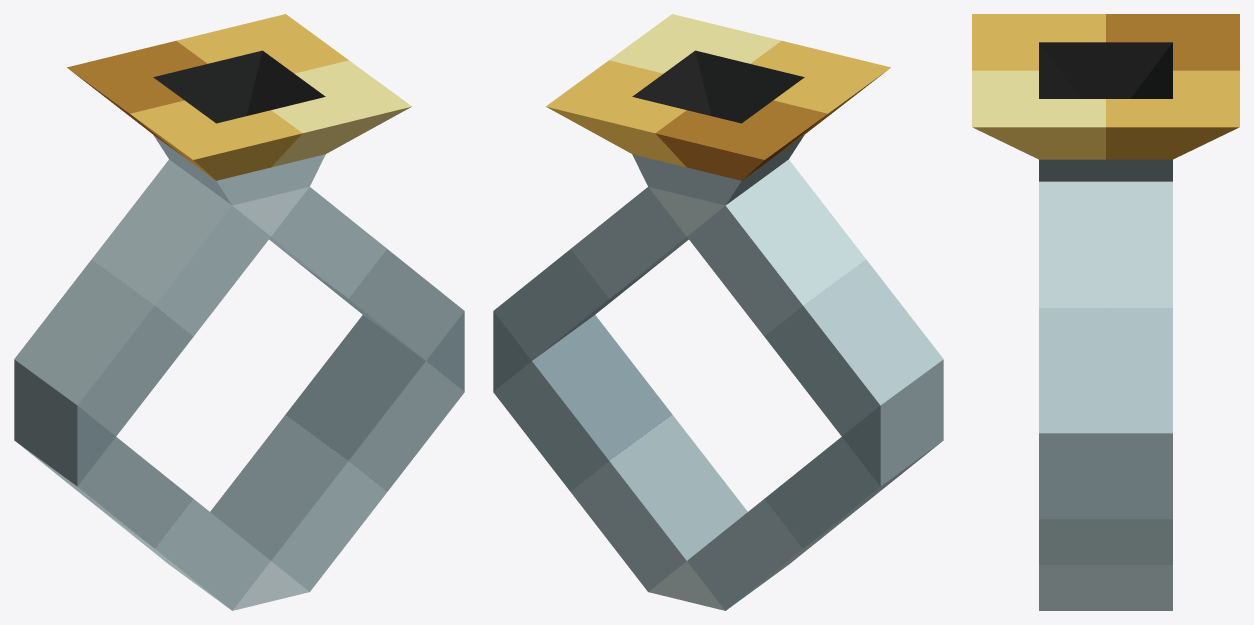
Rendered from ring_collection_lesser.obj.
3 renders of one model, left to right at view 1: azimuth 30°, elevation 25°; view 2: azimuth 150°, elevation 25°; view 3: azimuth 270°, elevation 25°, orthographic. The views are drawn at different scales.
Parts seen in each view (by area): view 1: RING_BASE_SILVER_Cube.036, RING_DECO_COLLECTION1_Cube.053; view 2: RING_BASE_SILVER_Cube.036, RING_DECO_COLLECTION1_Cube.053; view 3: RING_BASE_SILVER_Cube.036, RING_DECO_COLLECTION1_Cube.053.
Part boxes in pixels (bbox=[...]): RING_BASE_SILVER_Cube.036: bbox=[14, 159, 464, 610]; RING_DECO_COLLECTION1_Cube.053: bbox=[67, 14, 411, 205]; RING_BASE_SILVER_Cube.036: bbox=[493, 159, 943, 610]; RING_DECO_COLLECTION1_Cube.053: bbox=[546, 14, 890, 205]; RING_BASE_SILVER_Cube.036: bbox=[1039, 181, 1172, 610]; RING_DECO_COLLECTION1_Cube.053: bbox=[972, 14, 1239, 181].
Bounding box in the file's own units: 0.221 × 0.2678 × 0.125.
